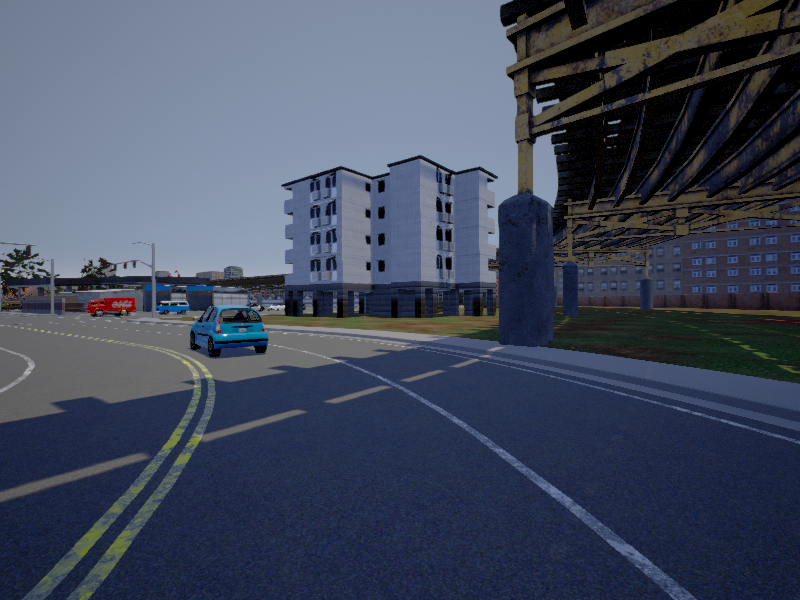Benign: (189, 305, 268, 358), (86, 297, 138, 318), (157, 300, 191, 317)
